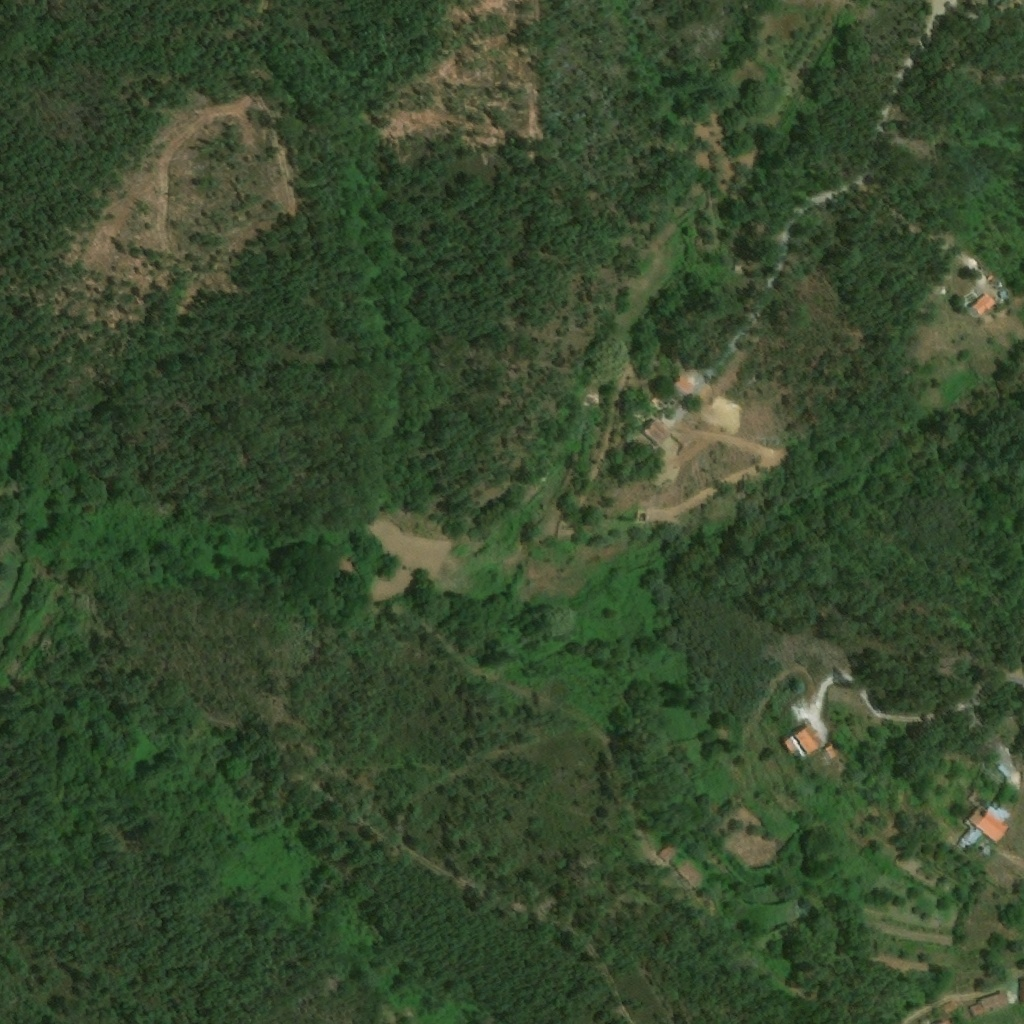0 no-damage: (958, 802, 1010, 852), (781, 723, 825, 763), (969, 991, 1010, 1019), (645, 420, 675, 448), (969, 293, 998, 317), (997, 760, 1014, 781), (824, 743, 840, 761), (940, 1003, 955, 1014)
4 un-classified: (675, 858, 707, 891), (674, 374, 697, 398), (846, 788, 869, 812), (888, 784, 903, 818), (656, 845, 676, 864), (970, 723, 978, 733)
